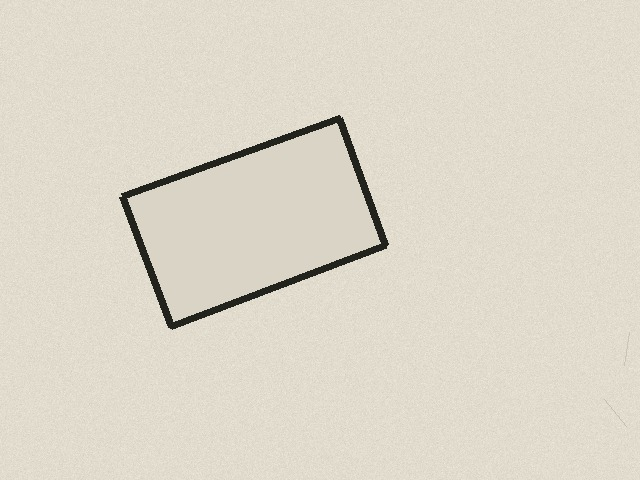parking_area: (122, 118, 385, 326)
